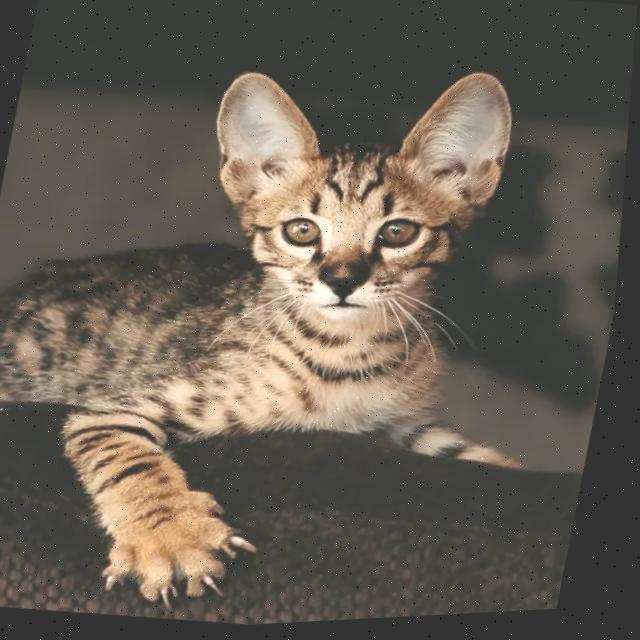Savannah: (0, 11, 616, 640)
